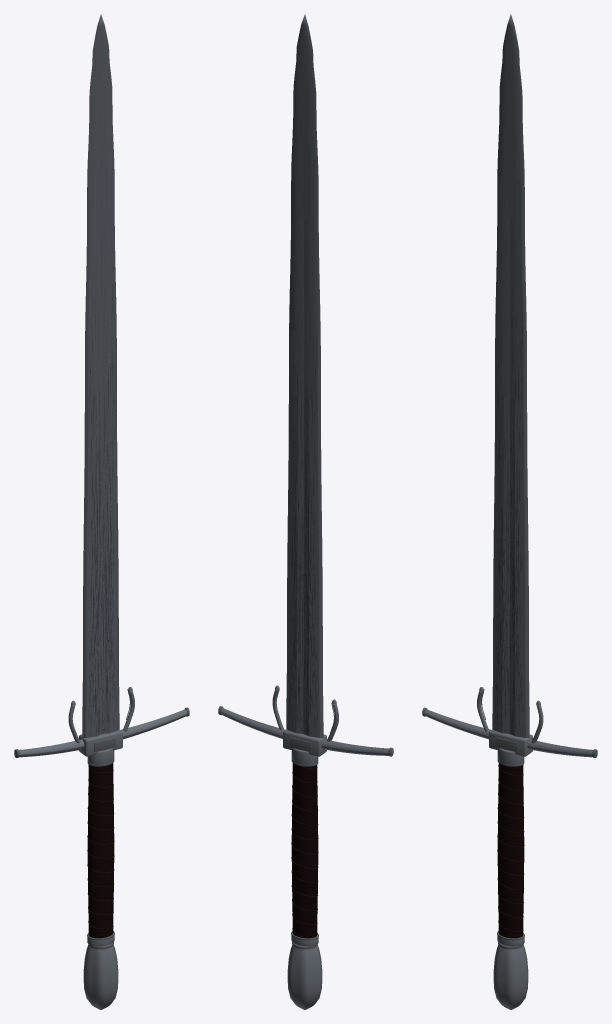
Rendered from branch-sword.glb.
3 renders of one model, left to right at view 1: azimuth 30°, elevation 25°; view 2: azimuth 150°, elevation 25°; view 3: azimuth 330°, elevation 25°, orthographic.
Parts seen in each view (by area): view 1: Blade, Grip, Guard, Pommel; view 2: Blade, Grip, Guard, Pommel; view 3: Blade, Grip, Guard, Pommel.
Boxes of the visible parts, <box> form: Blade: <box>82,14,119,738</box>; Grip: <box>87,763,114,946</box>; Guard: <box>14,687,189,766</box>; Pommel: <box>83,942,118,1009</box>; Blade: <box>286,14,323,738</box>; Grip: <box>291,763,318,946</box>; Guard: <box>218,685,393,766</box>; Pommel: <box>287,942,322,1009</box>; Blade: <box>492,14,529,738</box>; Grip: <box>497,763,524,946</box>; Guard: <box>422,687,597,766</box>; Pommel: <box>493,942,528,1009</box>.
Bounding box in the file's own units: 0.23 × 1.27 × 0.0403.
Materials: 5 (2 with a texture image).
